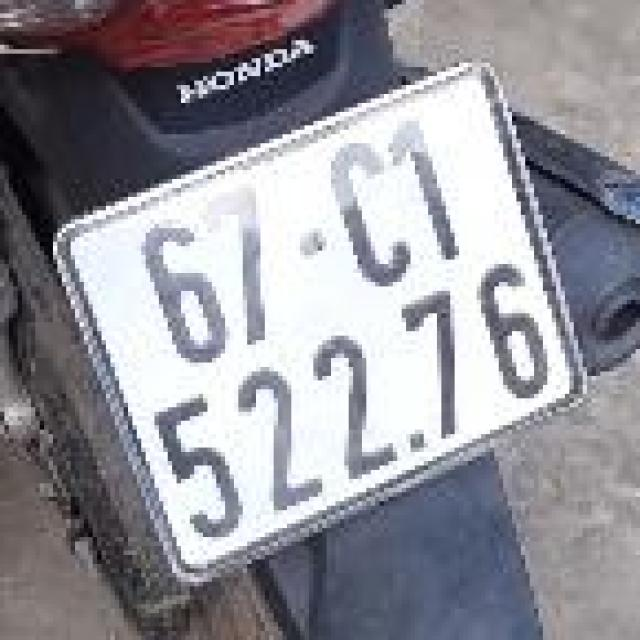1: (371, 98, 486, 279)
2: (297, 315, 419, 496), (223, 349, 339, 530)
5: (140, 380, 267, 562)
6: (128, 197, 246, 385), (459, 245, 569, 419)
7: (202, 166, 297, 363), (387, 281, 488, 460)
C: (313, 127, 429, 301)
